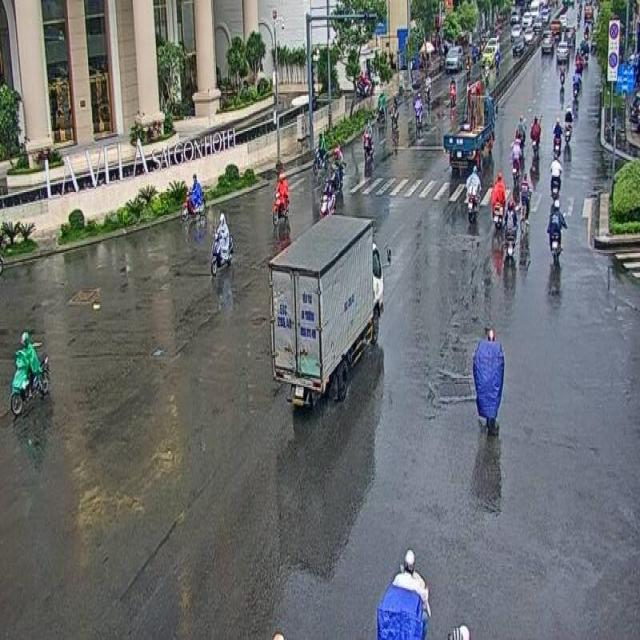car: (443, 95, 497, 169)
motorcycle: (10, 329, 50, 415), (210, 209, 234, 274), (546, 195, 566, 267), (182, 169, 205, 218), (502, 198, 518, 261), (464, 165, 480, 222), (490, 172, 506, 227), (272, 172, 289, 223), (319, 177, 335, 219)
truck: (270, 214, 384, 412)
